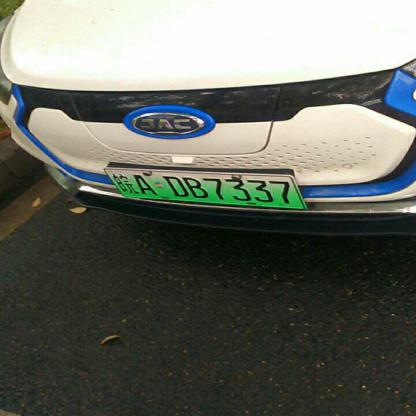lp: (103, 168, 307, 209)
